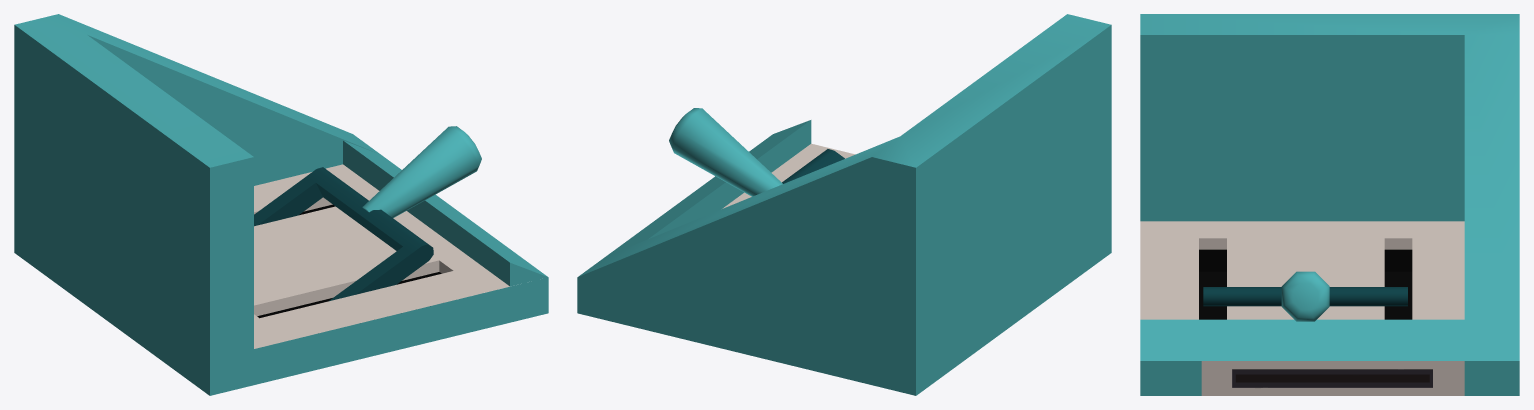
Rendered from surveillance_lever_on.glb.
3 views of the same model, side by side, from view 1: azimuth 30°, elevation 25°; view 2: azimuth 150°, elevation 25°; view 3: azimuth 270°, elevation 25° (orthographic). The views are drawn at different scales.
Parts seen in each view (by area): view 1: surveillance_lever_on; view 2: surveillance_lever_on; view 3: surveillance_lever_on.
Part boxes in pixels (box(x1,y1,x2,y2)): surveillance_lever_on: box(14, 14, 548, 395); surveillance_lever_on: box(577, 14, 1111, 395); surveillance_lever_on: box(1140, 14, 1519, 395).
Bounding box in the file's own units: 0.6524 × 0.4043 × 0.6278.
4 materials, 1 textured.
